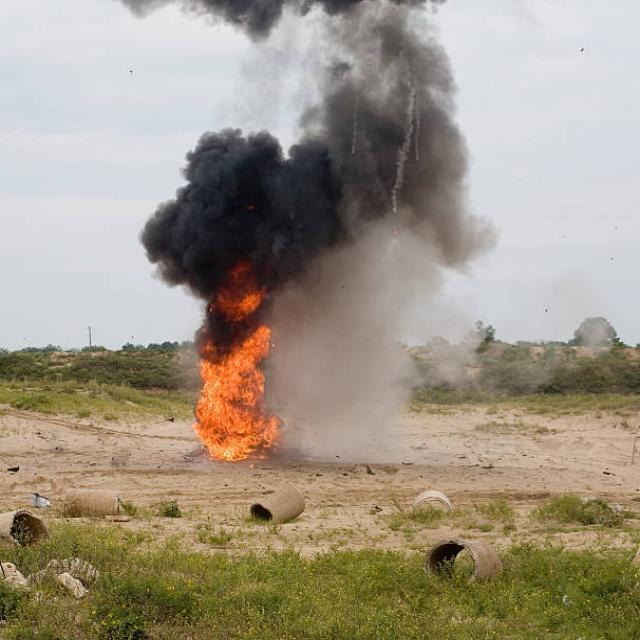Fire: (190, 266, 274, 456)
Smoke: (117, 0, 496, 268), (274, 268, 473, 460)
